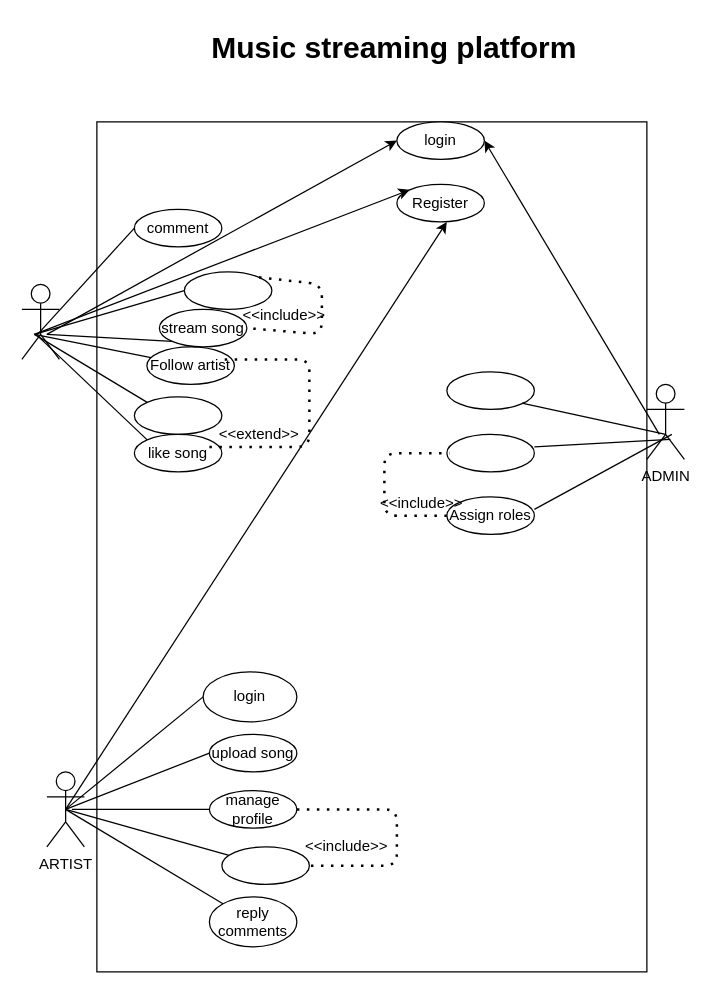
Some shapes in this 711 by 994 pixel diagram are drawn without their labels. The centre of each missing label's shape, as x and y in pixels:
"Browse music" goes at pixel 227 290.
"Create playlist" goes at pixel 177 415.
"FAN" goes at pixel 40 321.
"manage users" goes at pixel 490 452.
"moderate song" goes at pixel 490 390.
"view likes" goes at pixel 265 865.
